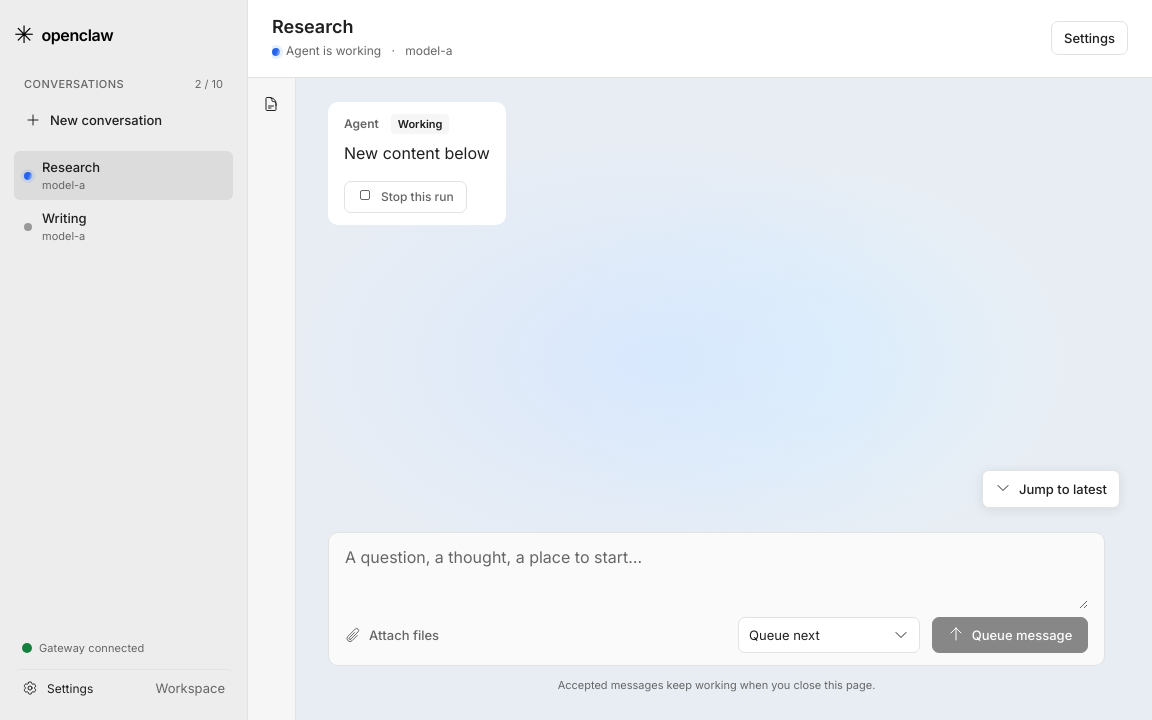
Scenario: offers a jump to latest without changing the reader position until requested
(page scrolled)
Expected: the text box named "Message Research" is shown, [345, 545, 1088, 609]
Expected: the text "New content below" is shown, [344, 140, 490, 167]
Step 1. Click the button "Jump to latest" → [1051, 489], box [982, 470, 1120, 508]
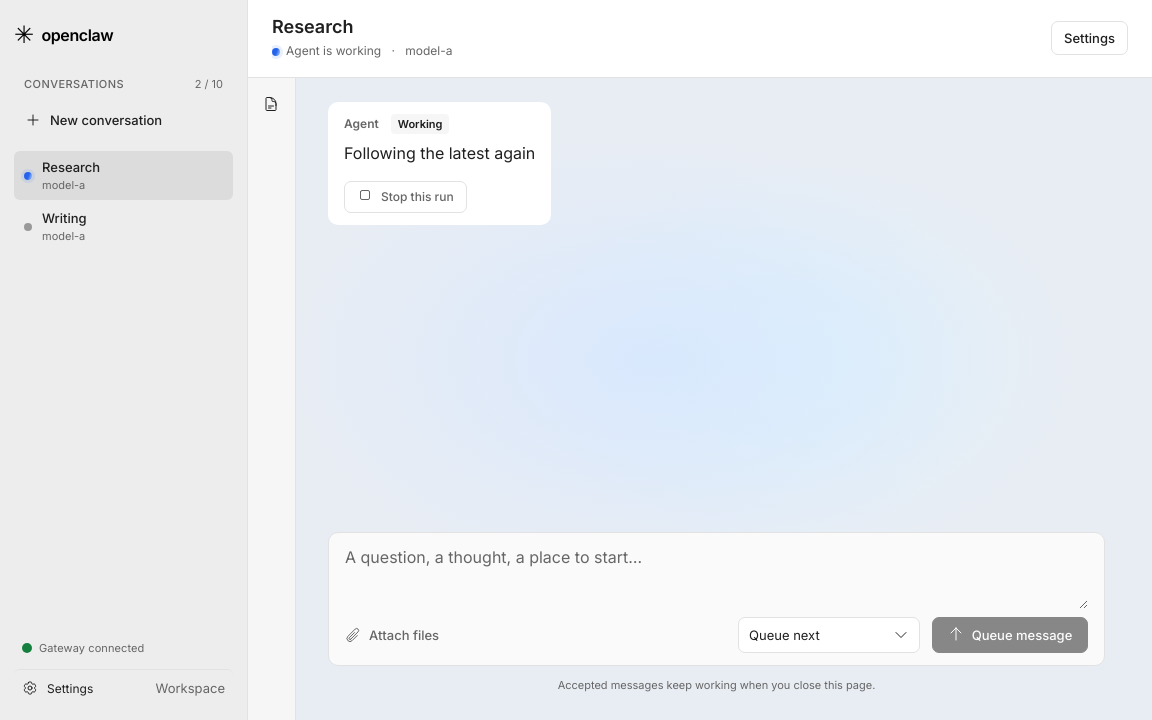
Expected: the button "Jump to latest" is gone
Expected: the text "Following the latest again" is shown, [344, 140, 535, 167]
